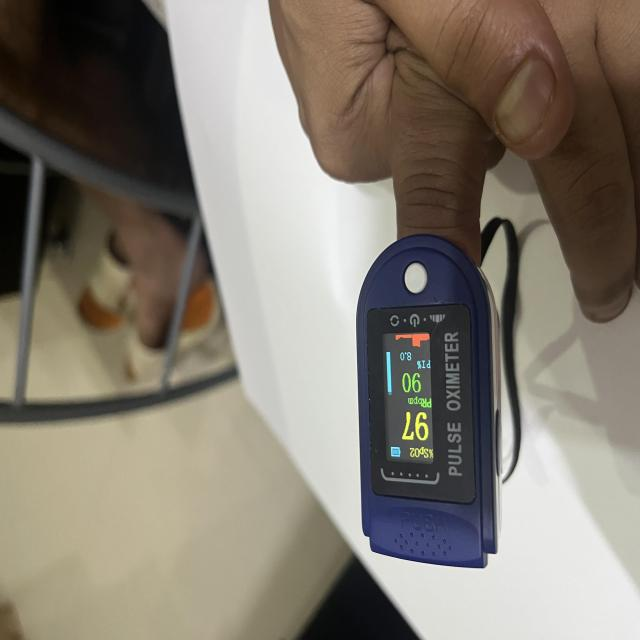spo2: (355, 236, 518, 570)
